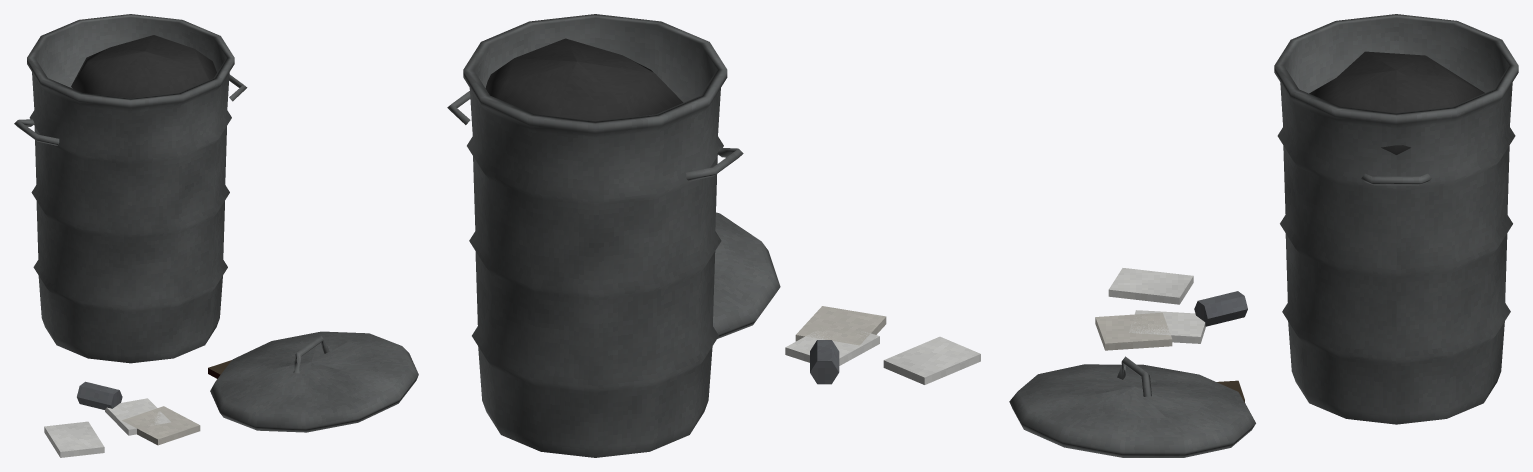
Rendered from ext_trash_can.glb.
3 views of the same model, side by side, from view 1: azimuth 30°, elevation 25°; view 2: azimuth 150°, elevation 25°; view 3: azimuth 270°, elevation 25° (orthographic). The views are drawn at different scales.
Parts seen in each view (by area): view 1: can-col, detail; view 2: can-col, detail; view 3: can-col, detail.
Boxes of the visible parts, bbox=[...] form: can-col: bbox=[27, 14, 234, 363]; detail: bbox=[14, 35, 418, 457]; can-col: bbox=[463, 14, 727, 457]; detail: bbox=[447, 38, 980, 384]; can-col: bbox=[1274, 14, 1518, 424]; detail: bbox=[1009, 51, 1484, 457].
Size of the model in its own units: 1.22 by 0.9387 by 1.31.
6 materials, 6 textured.
